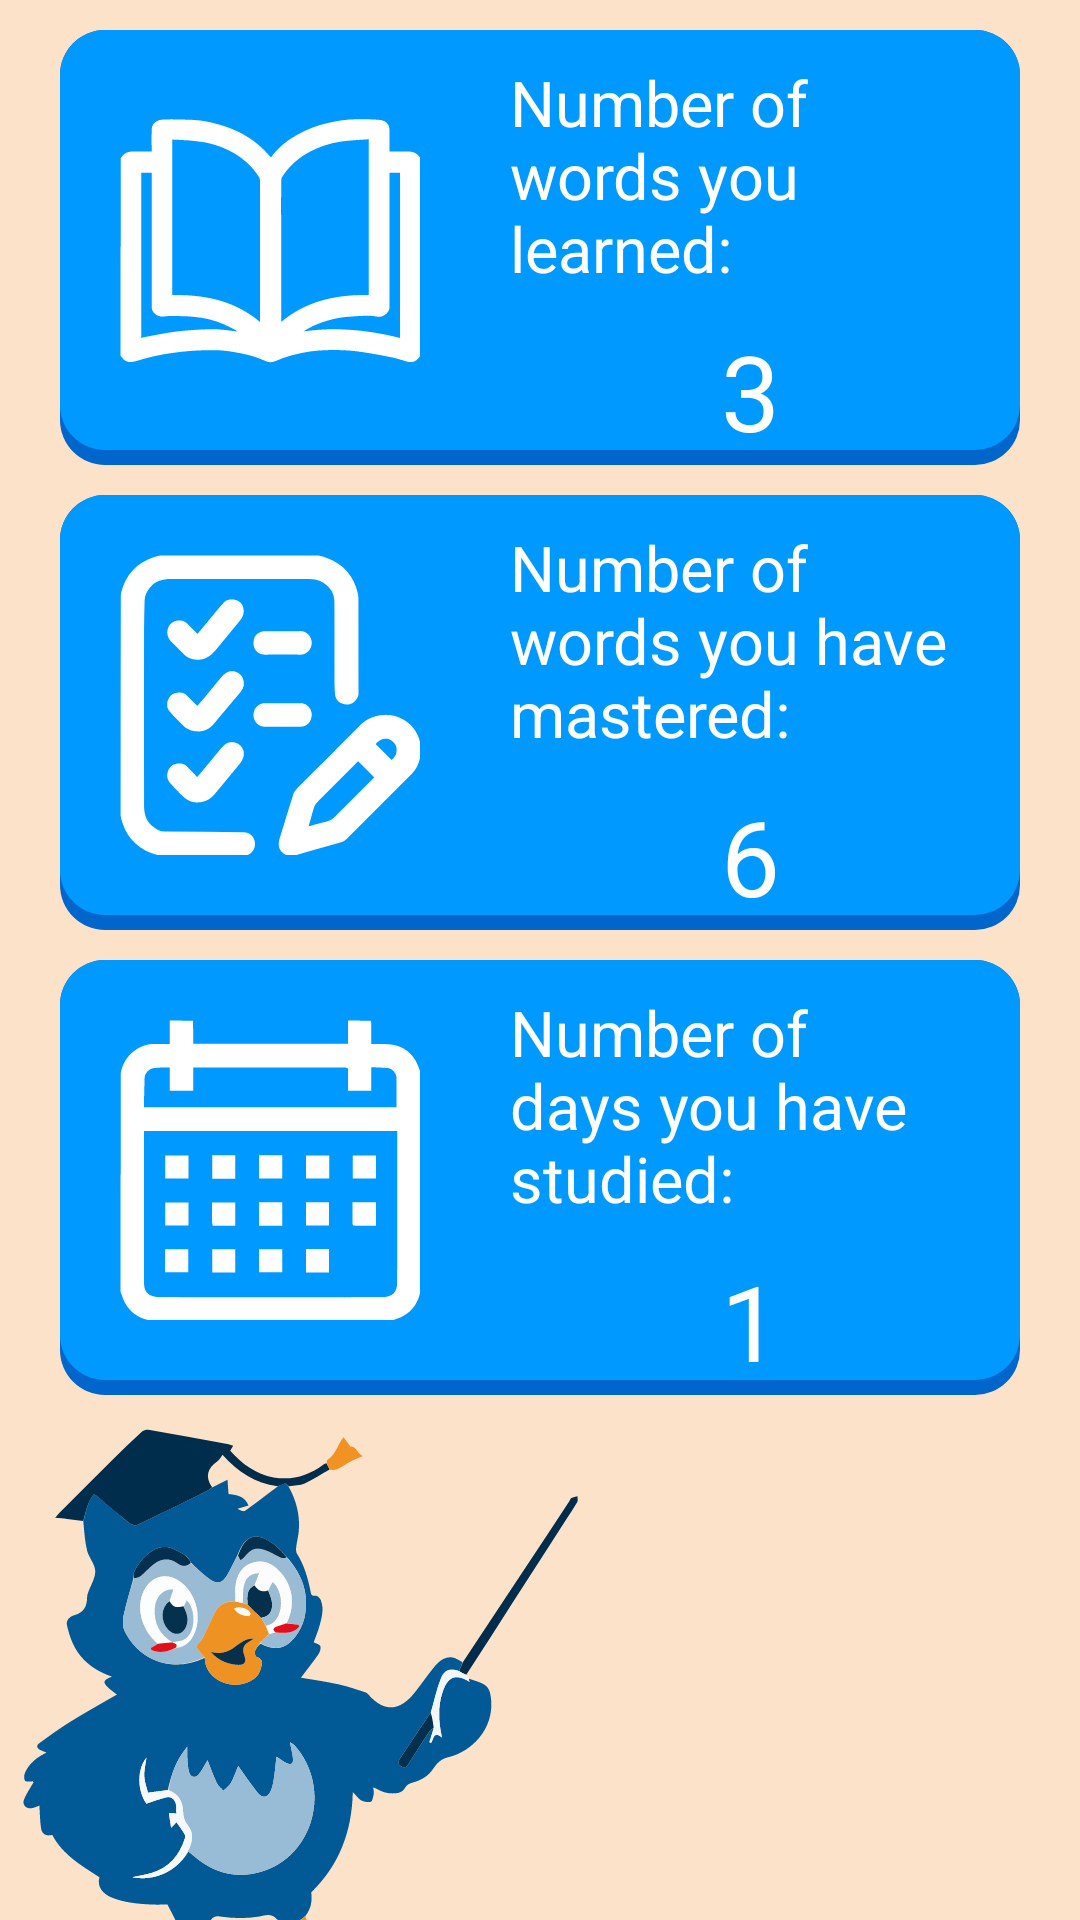

Icon bounding boxes for this 1080 x 1920 phone screenshot, format (x1=x1, y1=y1, x2=x2, y2=y2):
book: (x1=120, y1=119, x2=420, y2=363)
calendar: (x1=120, y1=1020, x2=420, y2=1320)
check list: (x1=120, y1=555, x2=420, y2=855)
